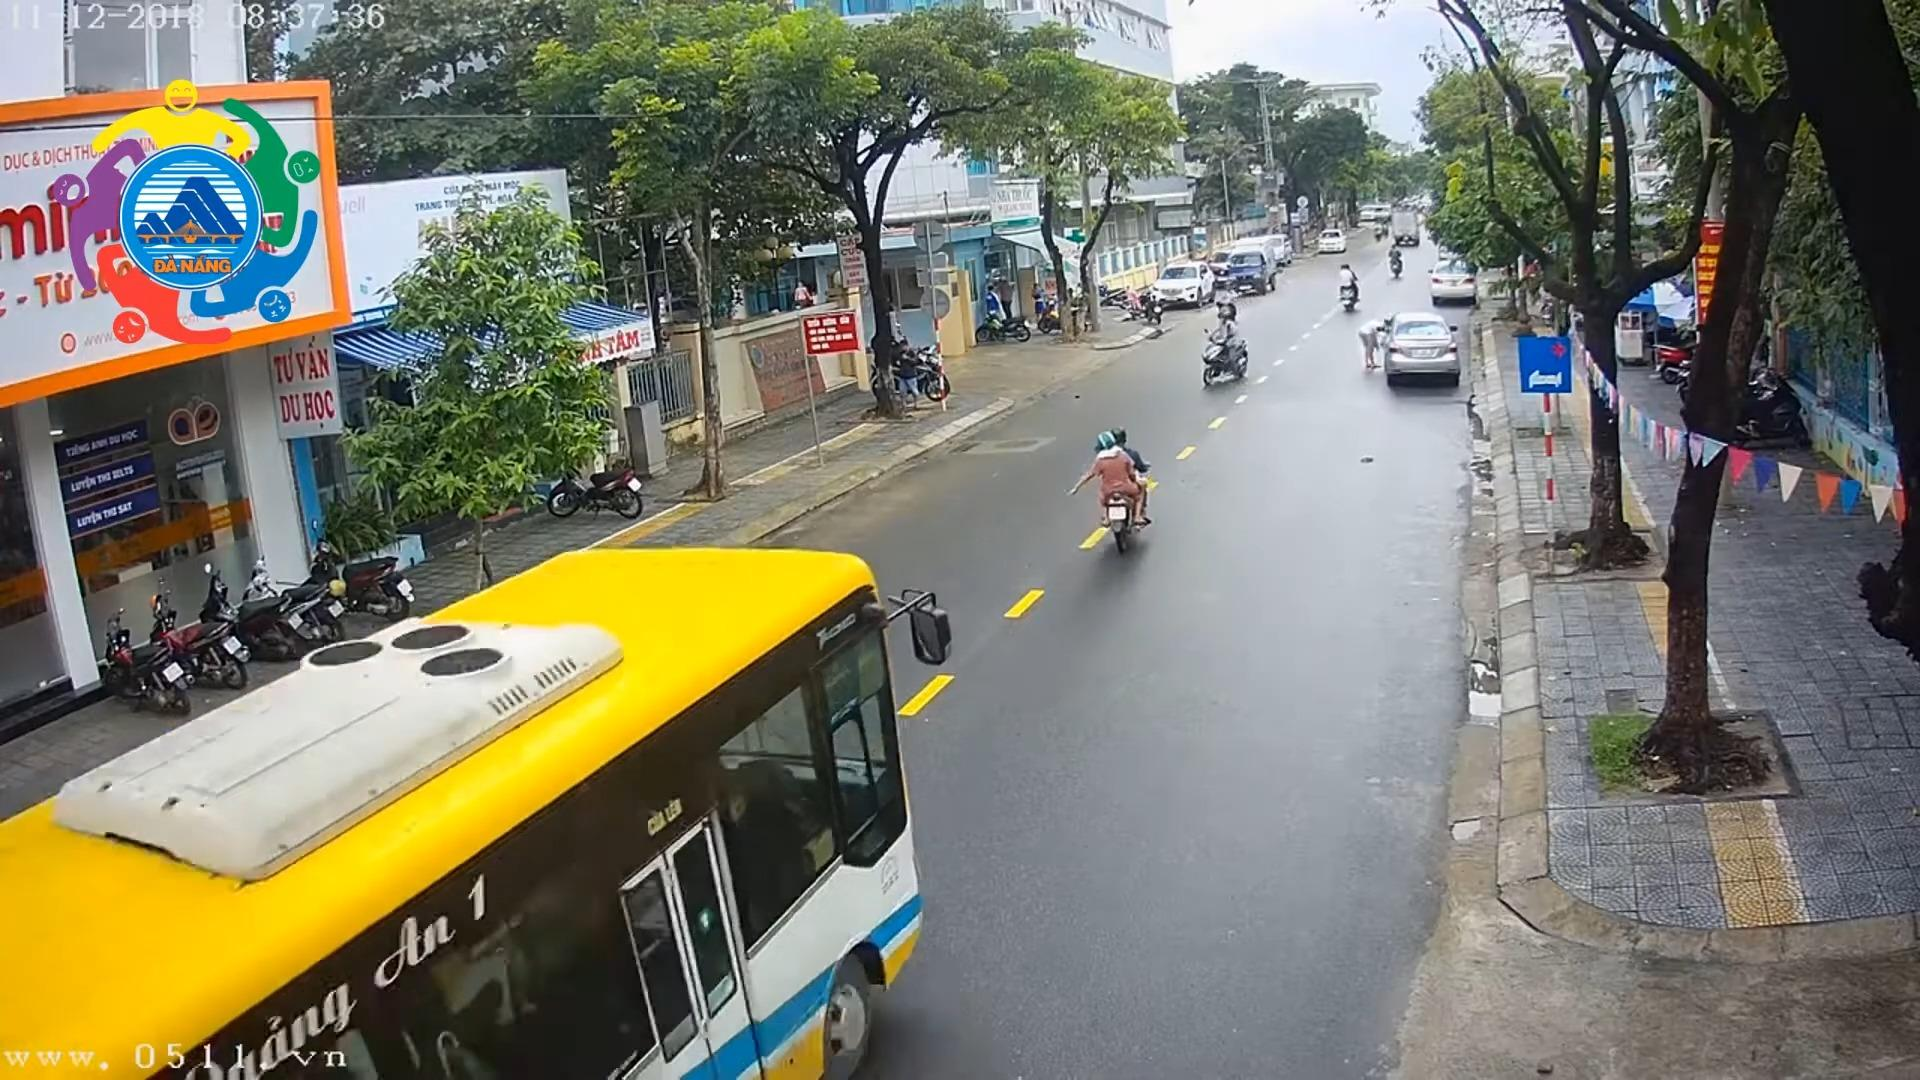bus: (0, 504, 972, 1080)
car: (1373, 306, 1464, 385), (1158, 252, 1218, 310), (1308, 220, 1349, 258)
motorcycle: (193, 546, 316, 659), (94, 585, 198, 719), (141, 572, 251, 691), (1067, 421, 1153, 563), (302, 526, 415, 629), (249, 550, 347, 646), (857, 323, 955, 407), (549, 443, 649, 522), (1193, 310, 1276, 398), (1211, 282, 1251, 335), (1337, 260, 1369, 318), (1378, 240, 1411, 286)
truck: (1225, 235, 1274, 295)
